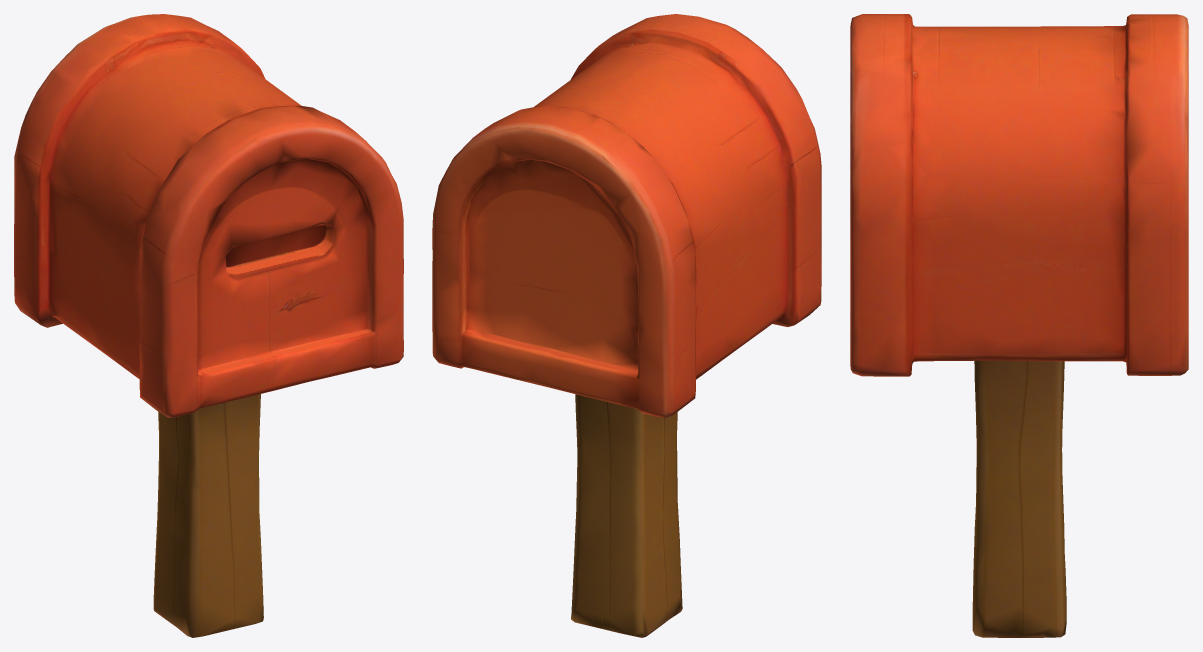
The model's file is Mail.glb.
3 renders of one model, left to right at view 1: azimuth 30°, elevation 25°; view 2: azimuth 150°, elevation 25°; view 3: azimuth 270°, elevation 25°, orthographic. The views are drawn at different scales.
Size of the model in its own units: 0.9268 by 2 by 1.04.
1 material, 1 textured.
